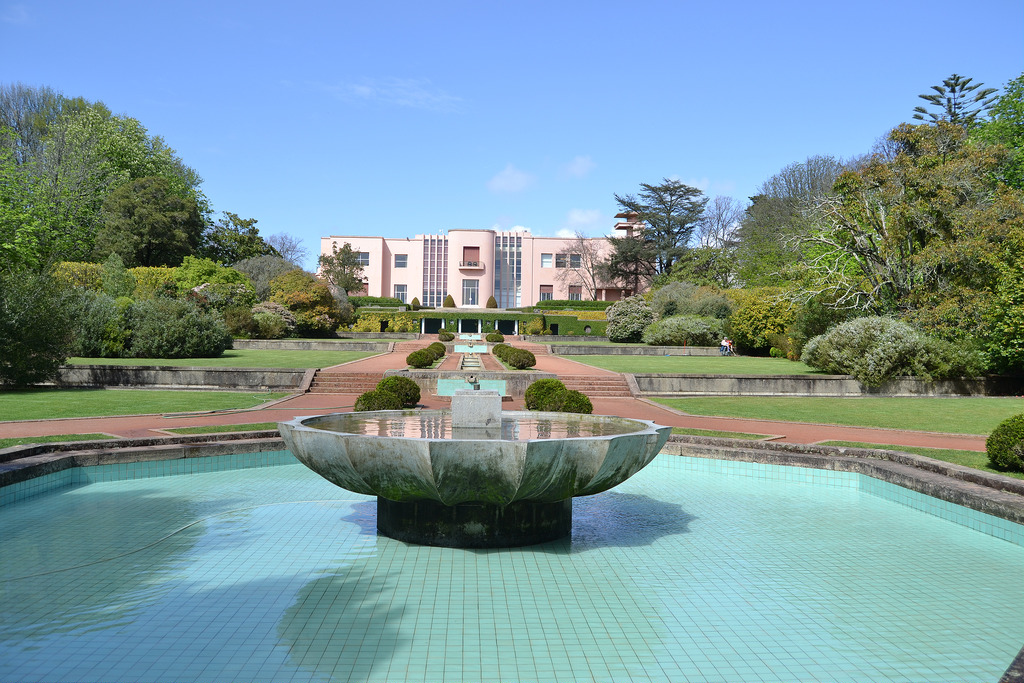serralves: (317, 208, 666, 309)
